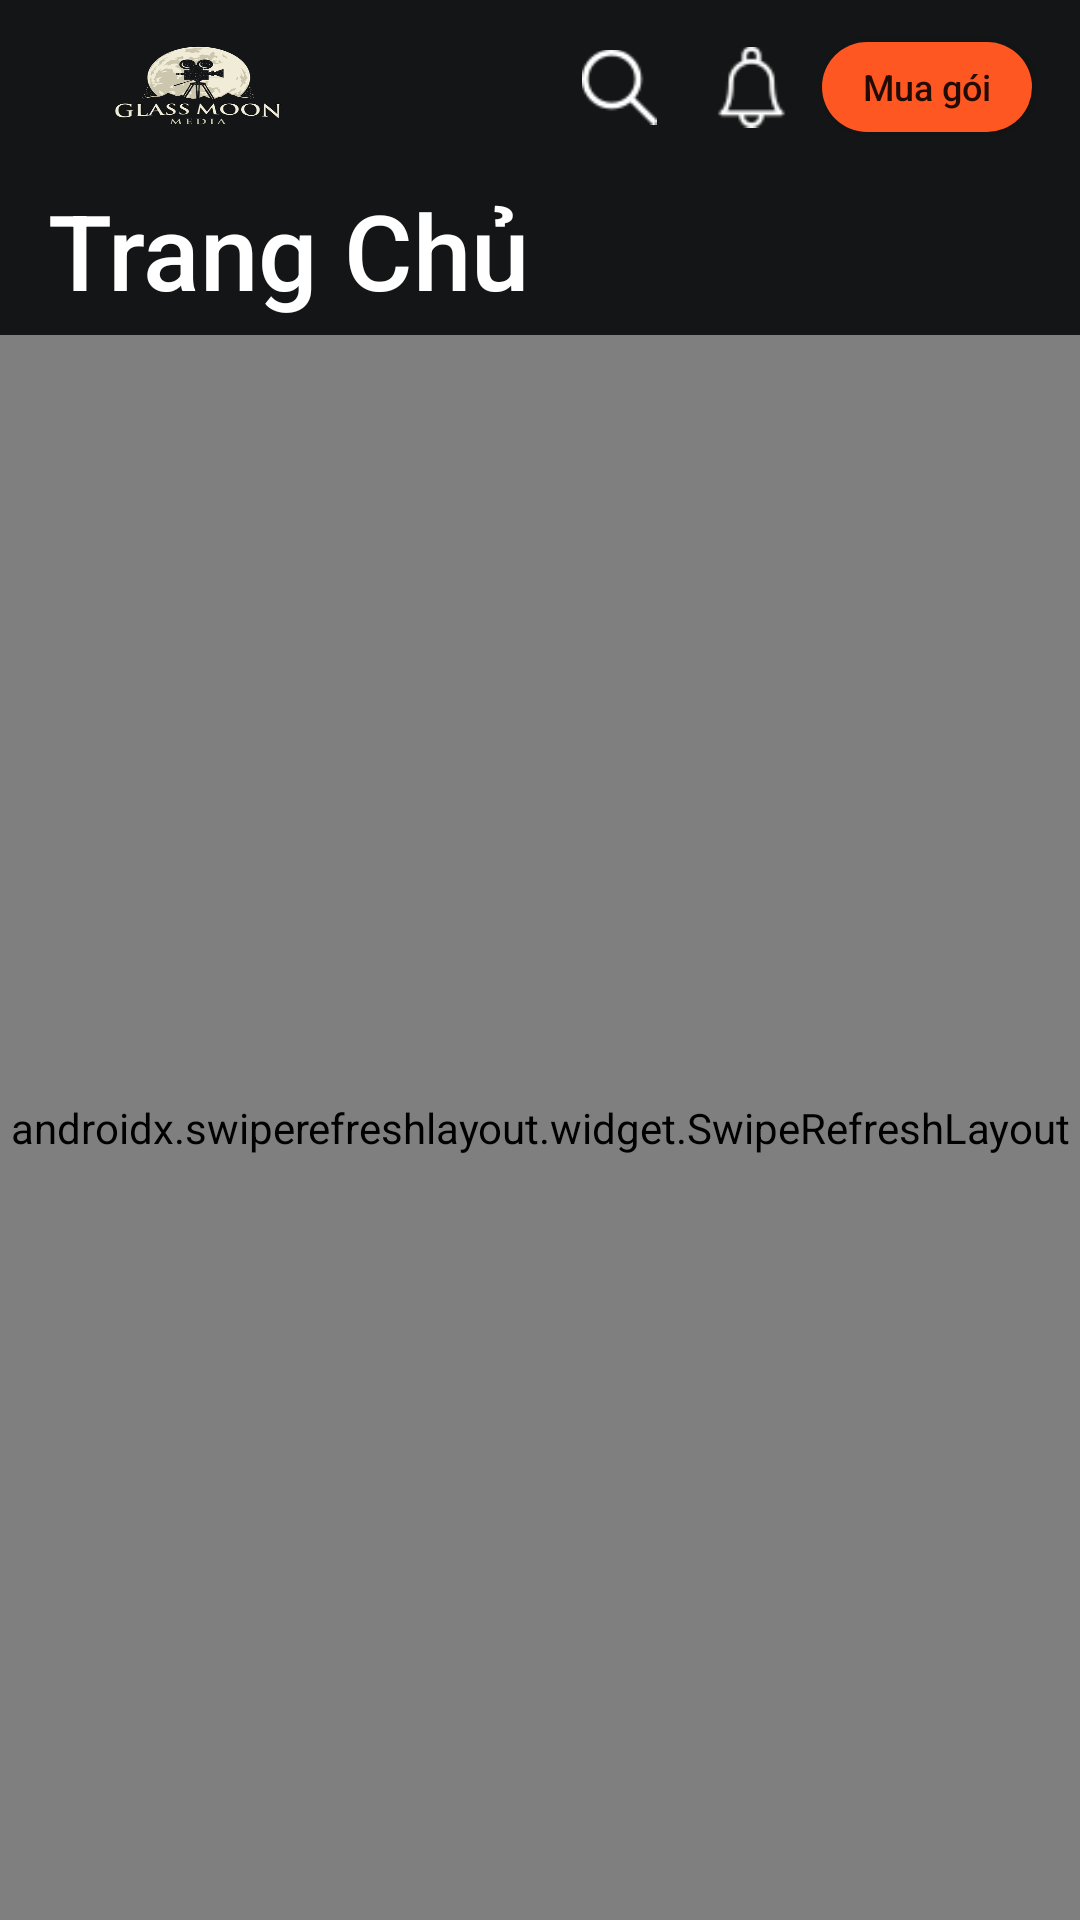

Icon bounding boxes for this 1080 × 1920 phone screenshot, format (x1, y1, x2, y2):
notification: (718, 47, 785, 128)
search: (582, 50, 657, 125)
